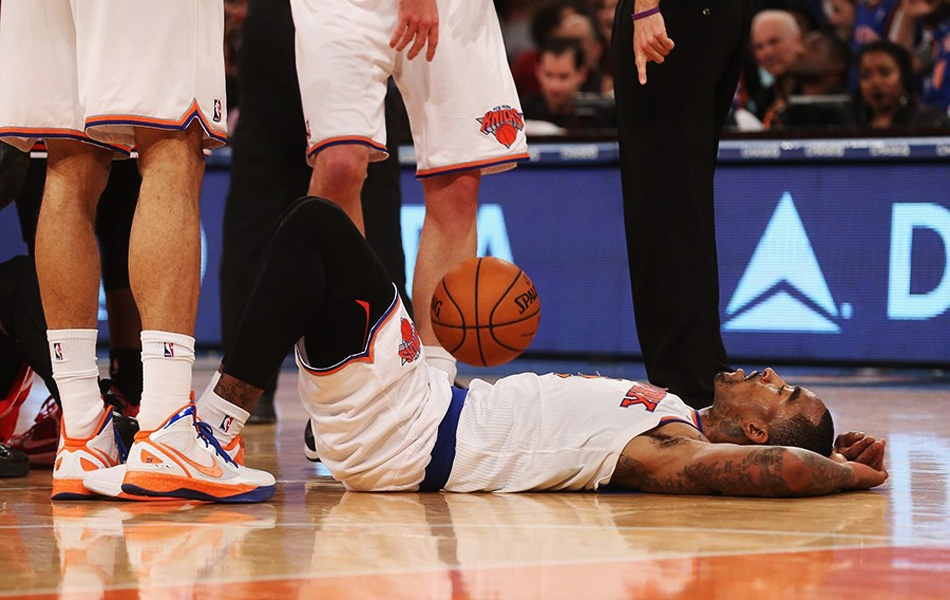falling: (180, 194, 903, 520)
